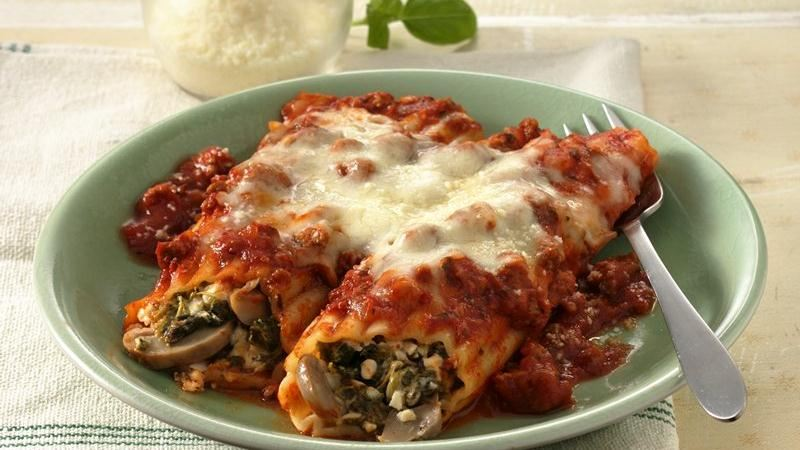ground_beef: (222, 112, 572, 304)
